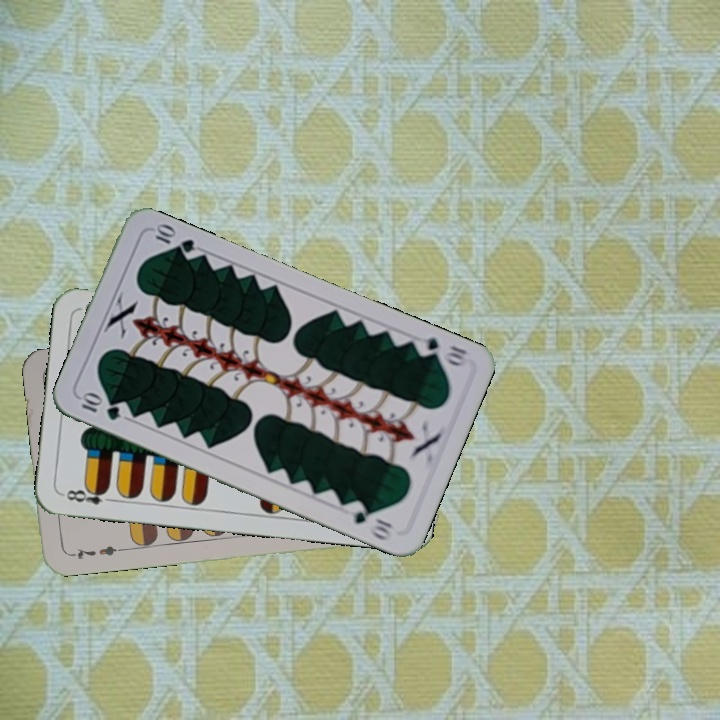E7: (66, 542, 125, 562)
E8: (62, 483, 118, 507)
G10: (411, 333, 471, 369), (76, 389, 123, 423)
